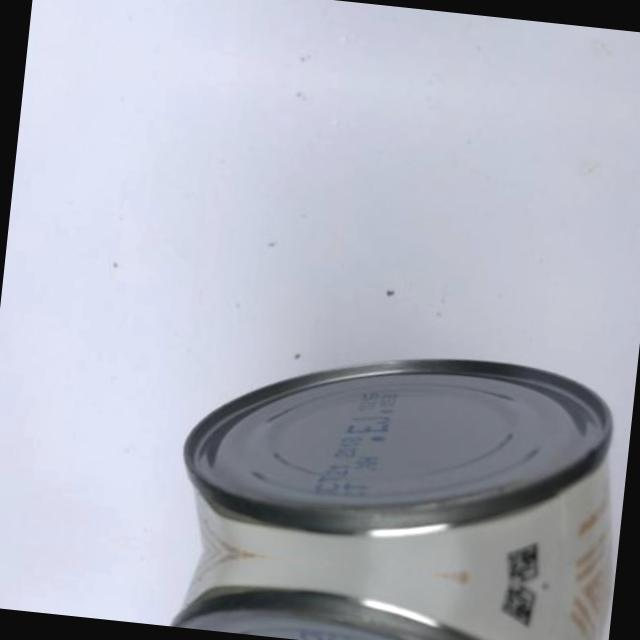Metal: (109, 302, 638, 592), (100, 539, 613, 640)
